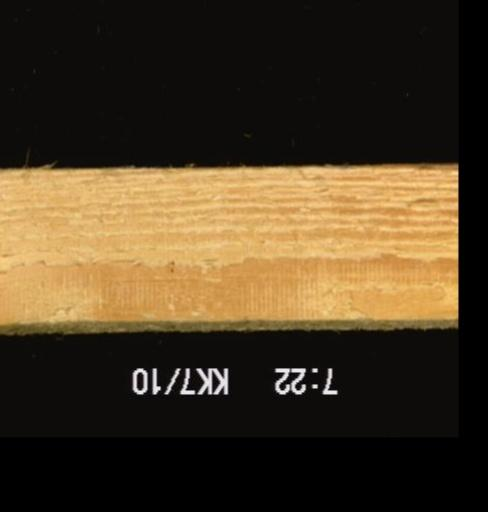split: (88, 275, 232, 293)
